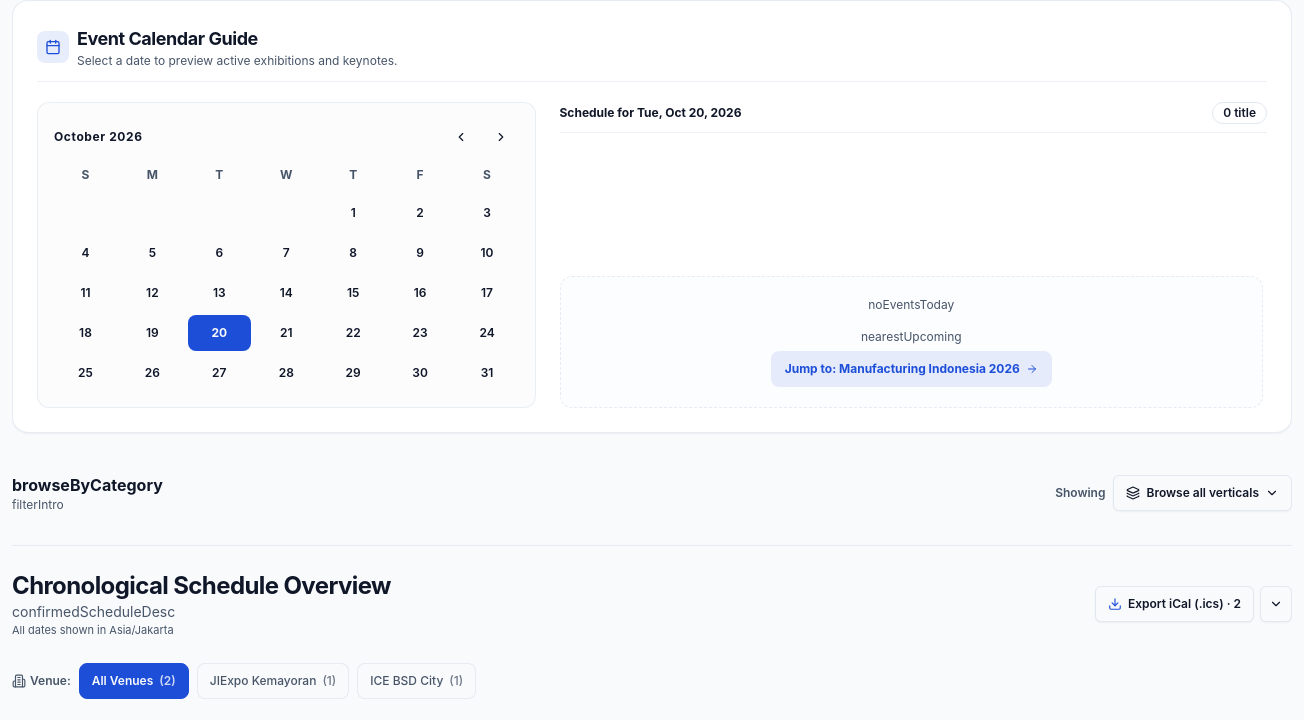
CalendarInteractiveView Component › collapses the vertical explorer behind a disclosure with a result summary
The image size is (1304, 720).
Expected: the text "Showing" is shown, [1055,485,1105,501]
What coordinates should you click on to do the following:
click the button "Browse all verticals"
I would click on:
 (1203, 493)
Its box is [1114,475,1292,511].
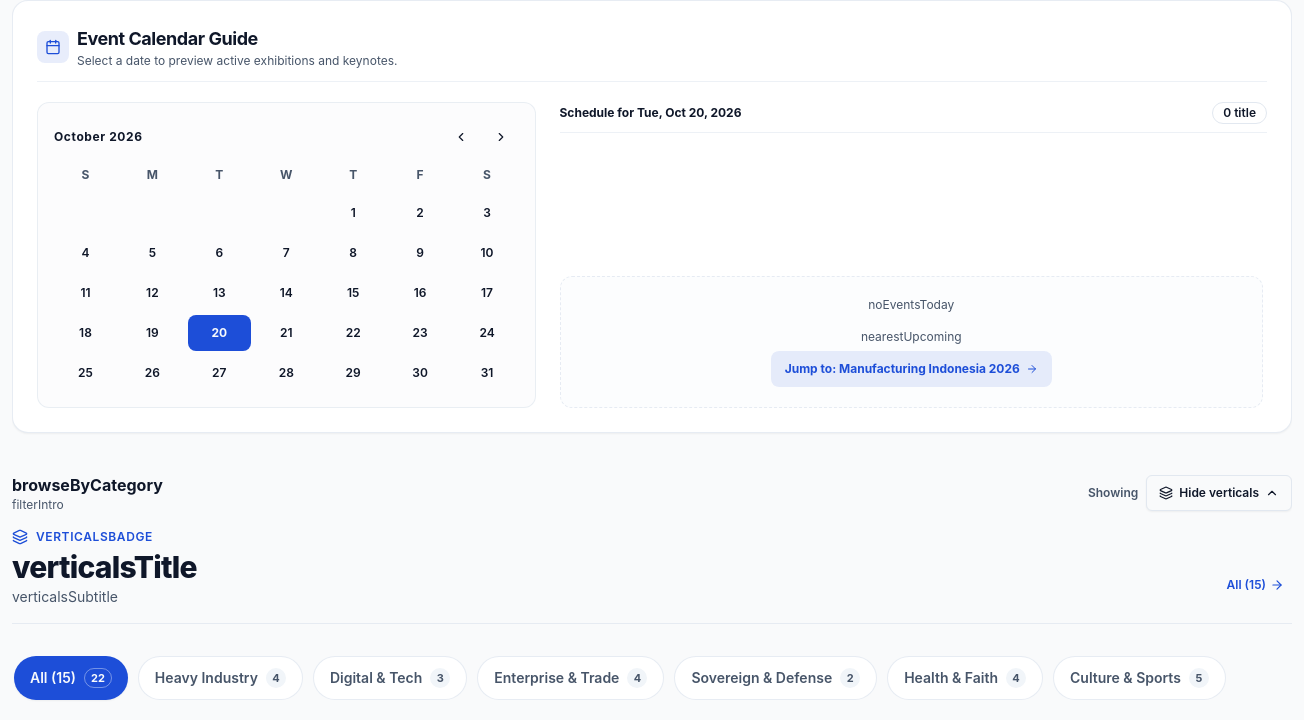
Now the button named "browse all verticals" is expanded, box [1146,475,1292,511]
